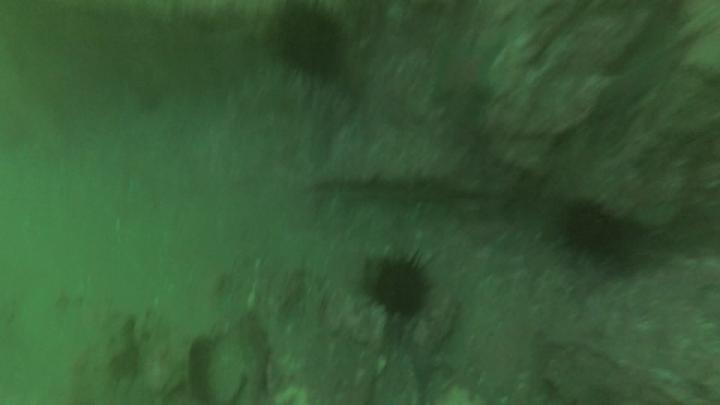echinus: (280, 16, 345, 84), (562, 205, 630, 267), (373, 262, 428, 315)
starfish: (435, 36, 498, 119)
